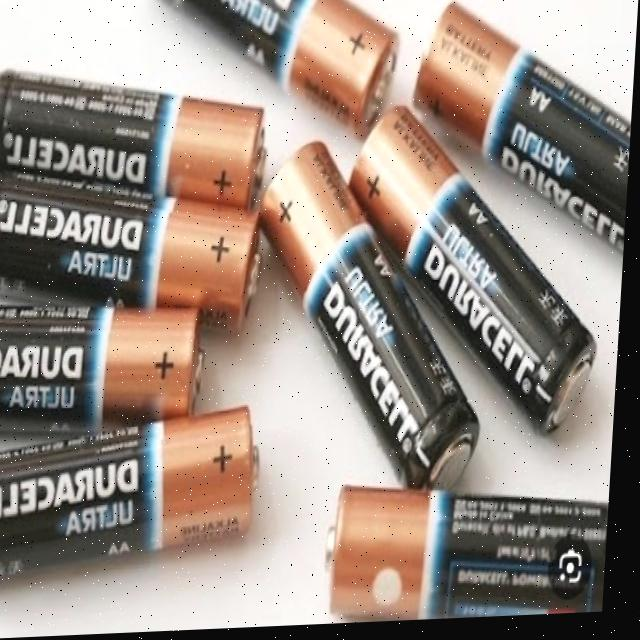battery: (346, 87, 609, 430), (0, 372, 275, 611), (408, 0, 639, 235), (0, 161, 276, 341), (0, 54, 279, 226), (323, 486, 609, 624), (140, 0, 402, 147), (0, 275, 213, 432)
